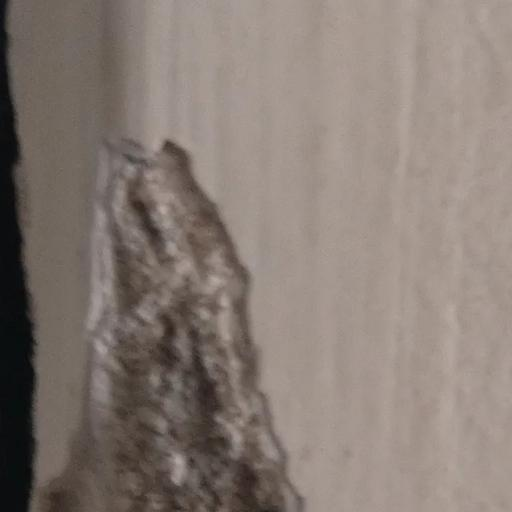spalling: (59, 86, 306, 512)
